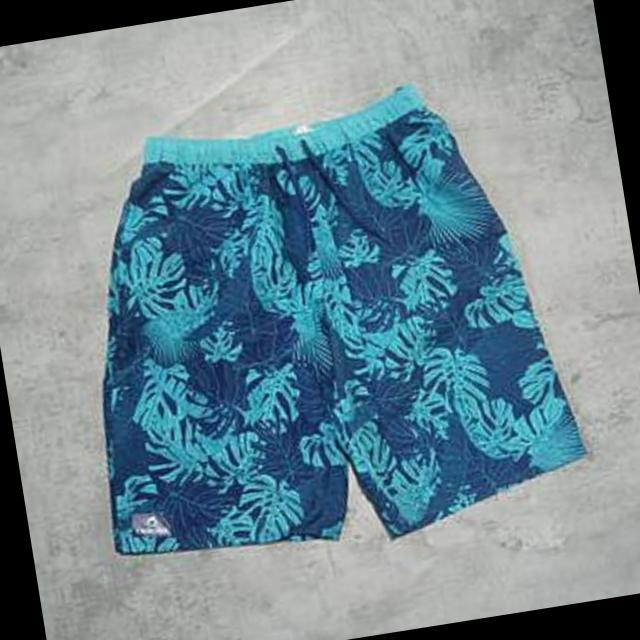SHORT: (36, 61, 622, 588)
